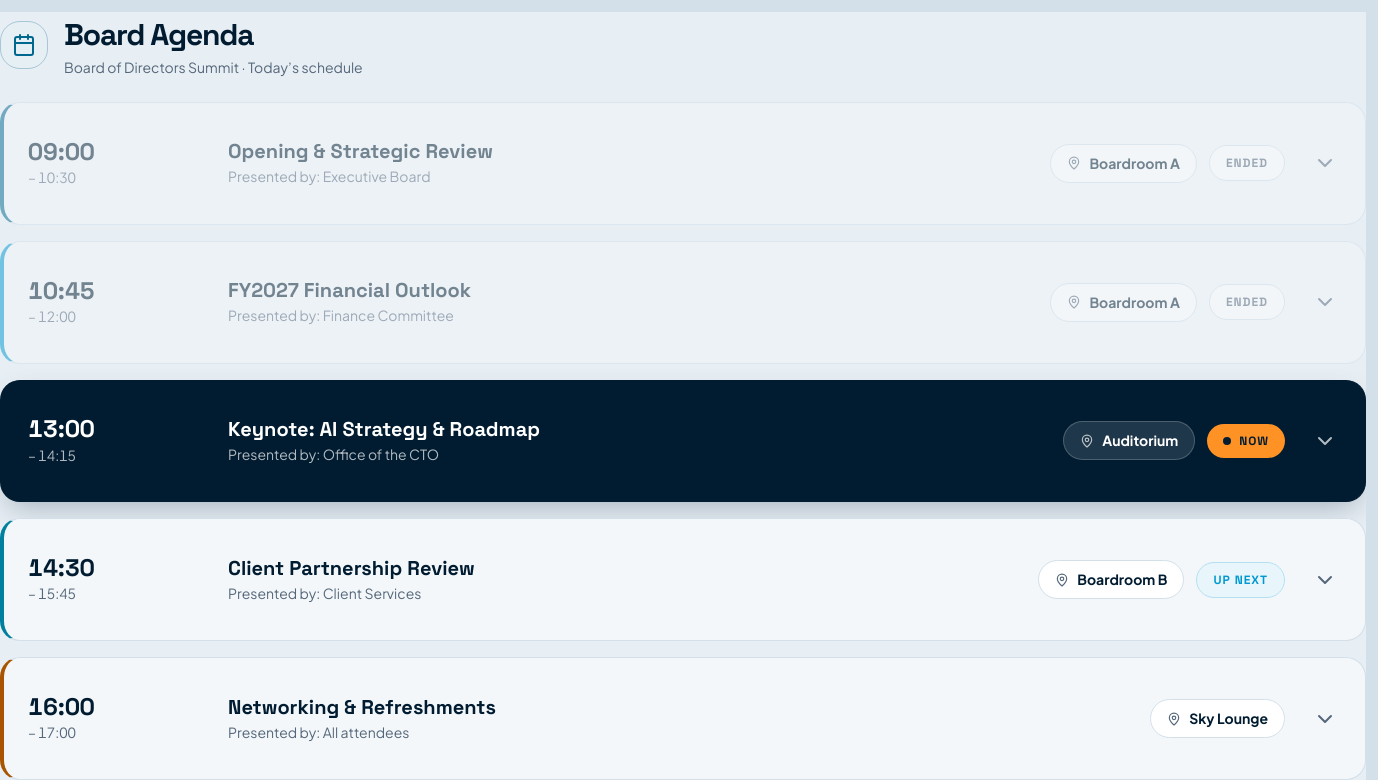
BoardAgenda rows › expands a session on tap and exposes its detail panel
The width and height of the screenshot is (1378, 780).
Click the button "Keynote: AI Strategy & Roadmap".
click(684, 441)  # box [4,381,1365,501]
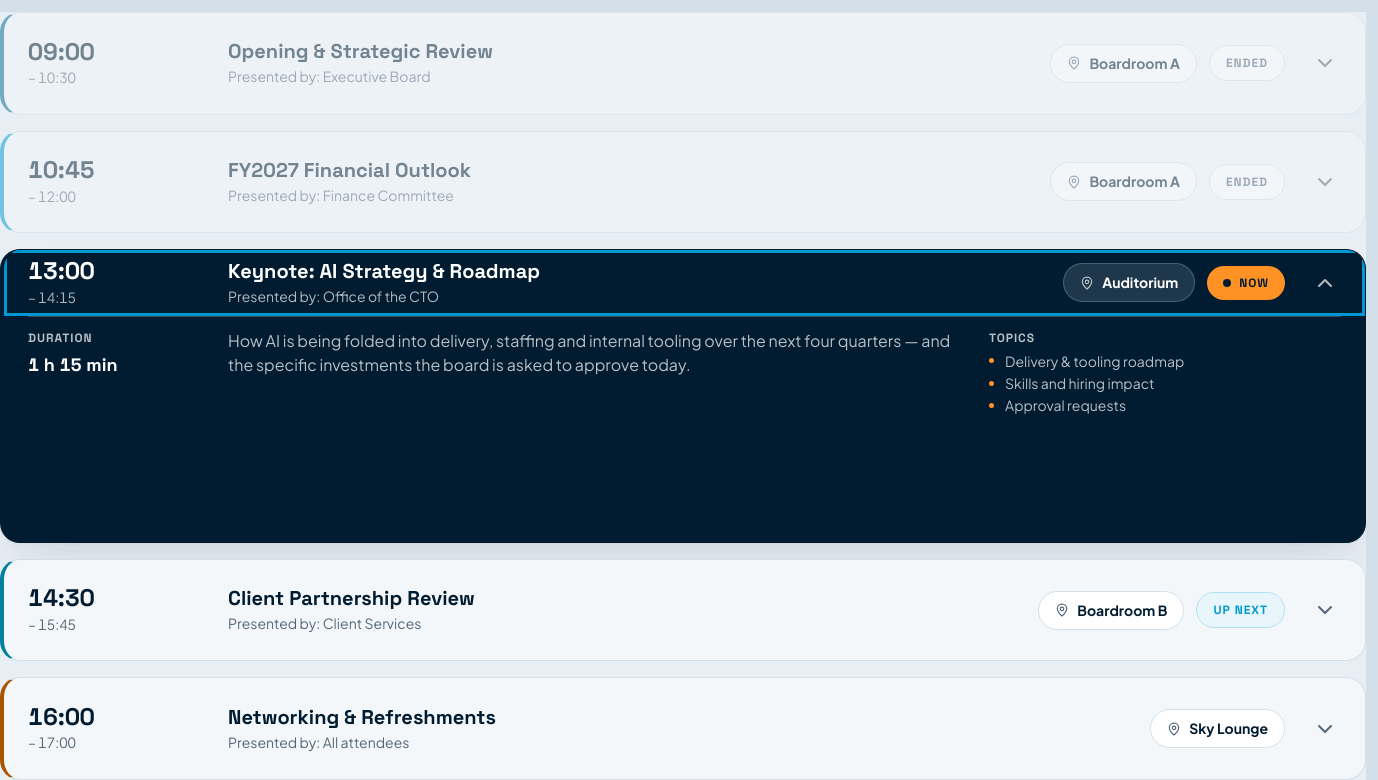
Result: the button "Keynote: AI Strategy & Roadmap" is expanded at [4,250,1365,316]
Result: the text "How AI is being folded into delivery, staffing and internal tooling over the next four quarters — and the specific inves" is shown at [228,330,950,374]
Result: the text "1 h 15 min" is shown at [28,352,118,376]
